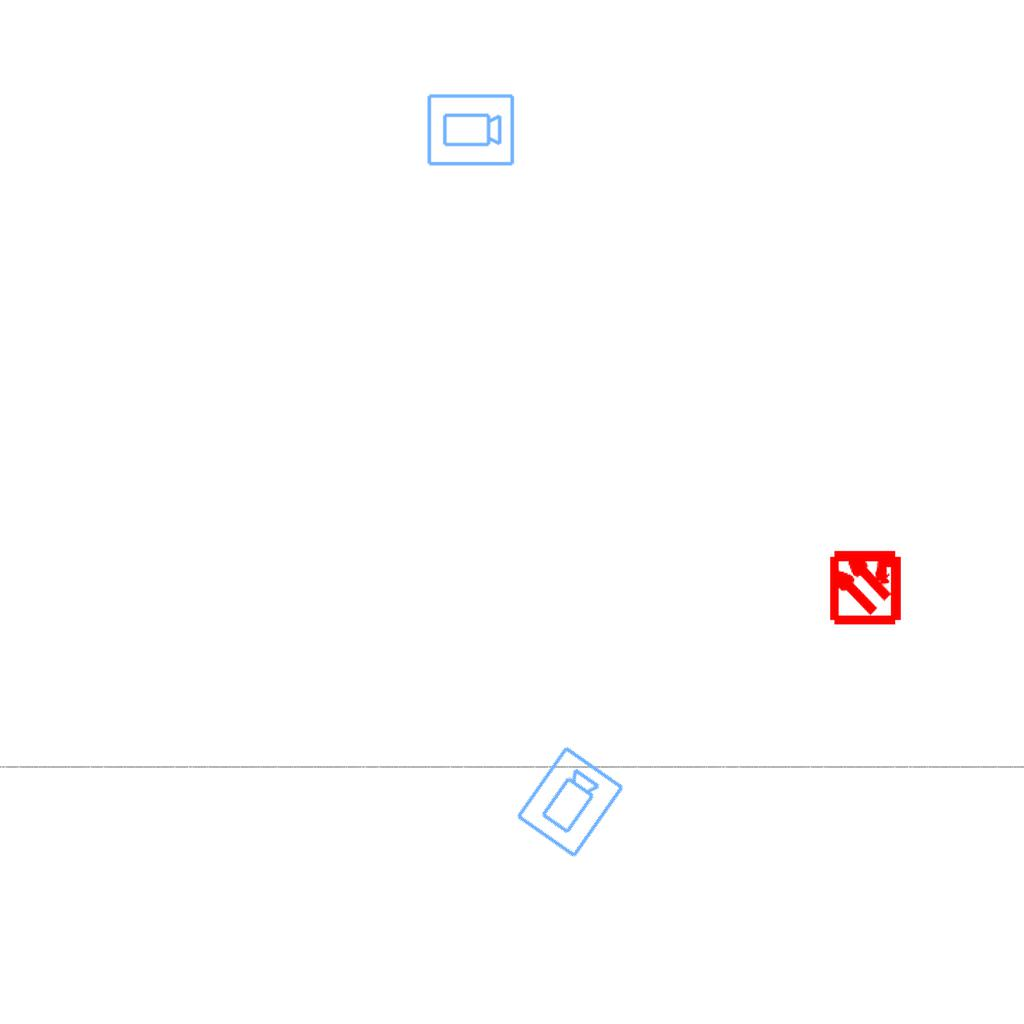KFO_Kamera_mit_Festobjektiv: (512, 743, 629, 862), (425, 92, 516, 169)
OT_Multisensormelder_(Kombination_RMO_WMD): (809, 529, 922, 642)
